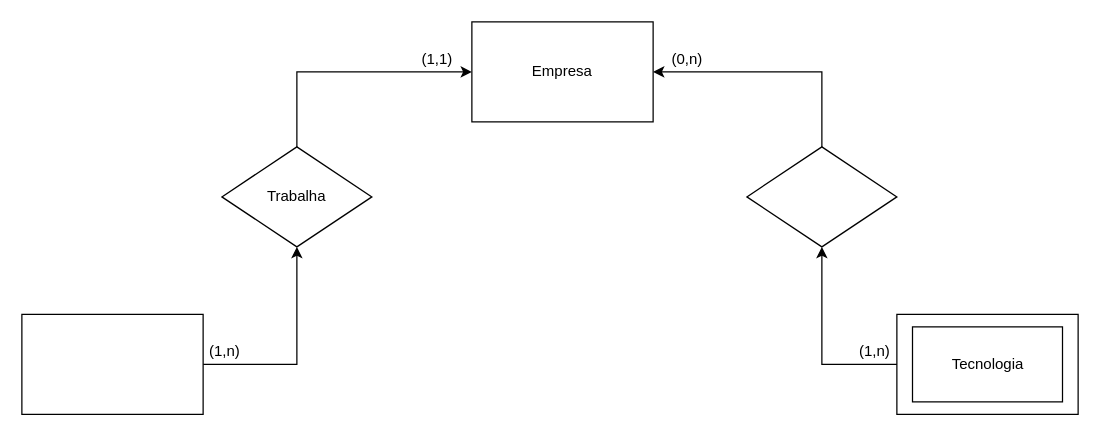
Some shapes in this 1100 by 436 pixel diagram are drawn without their labels. The centre of each missing label's shape, as x and y in pixels:
Colaborador: [112,363]
Usa: [821,196]
